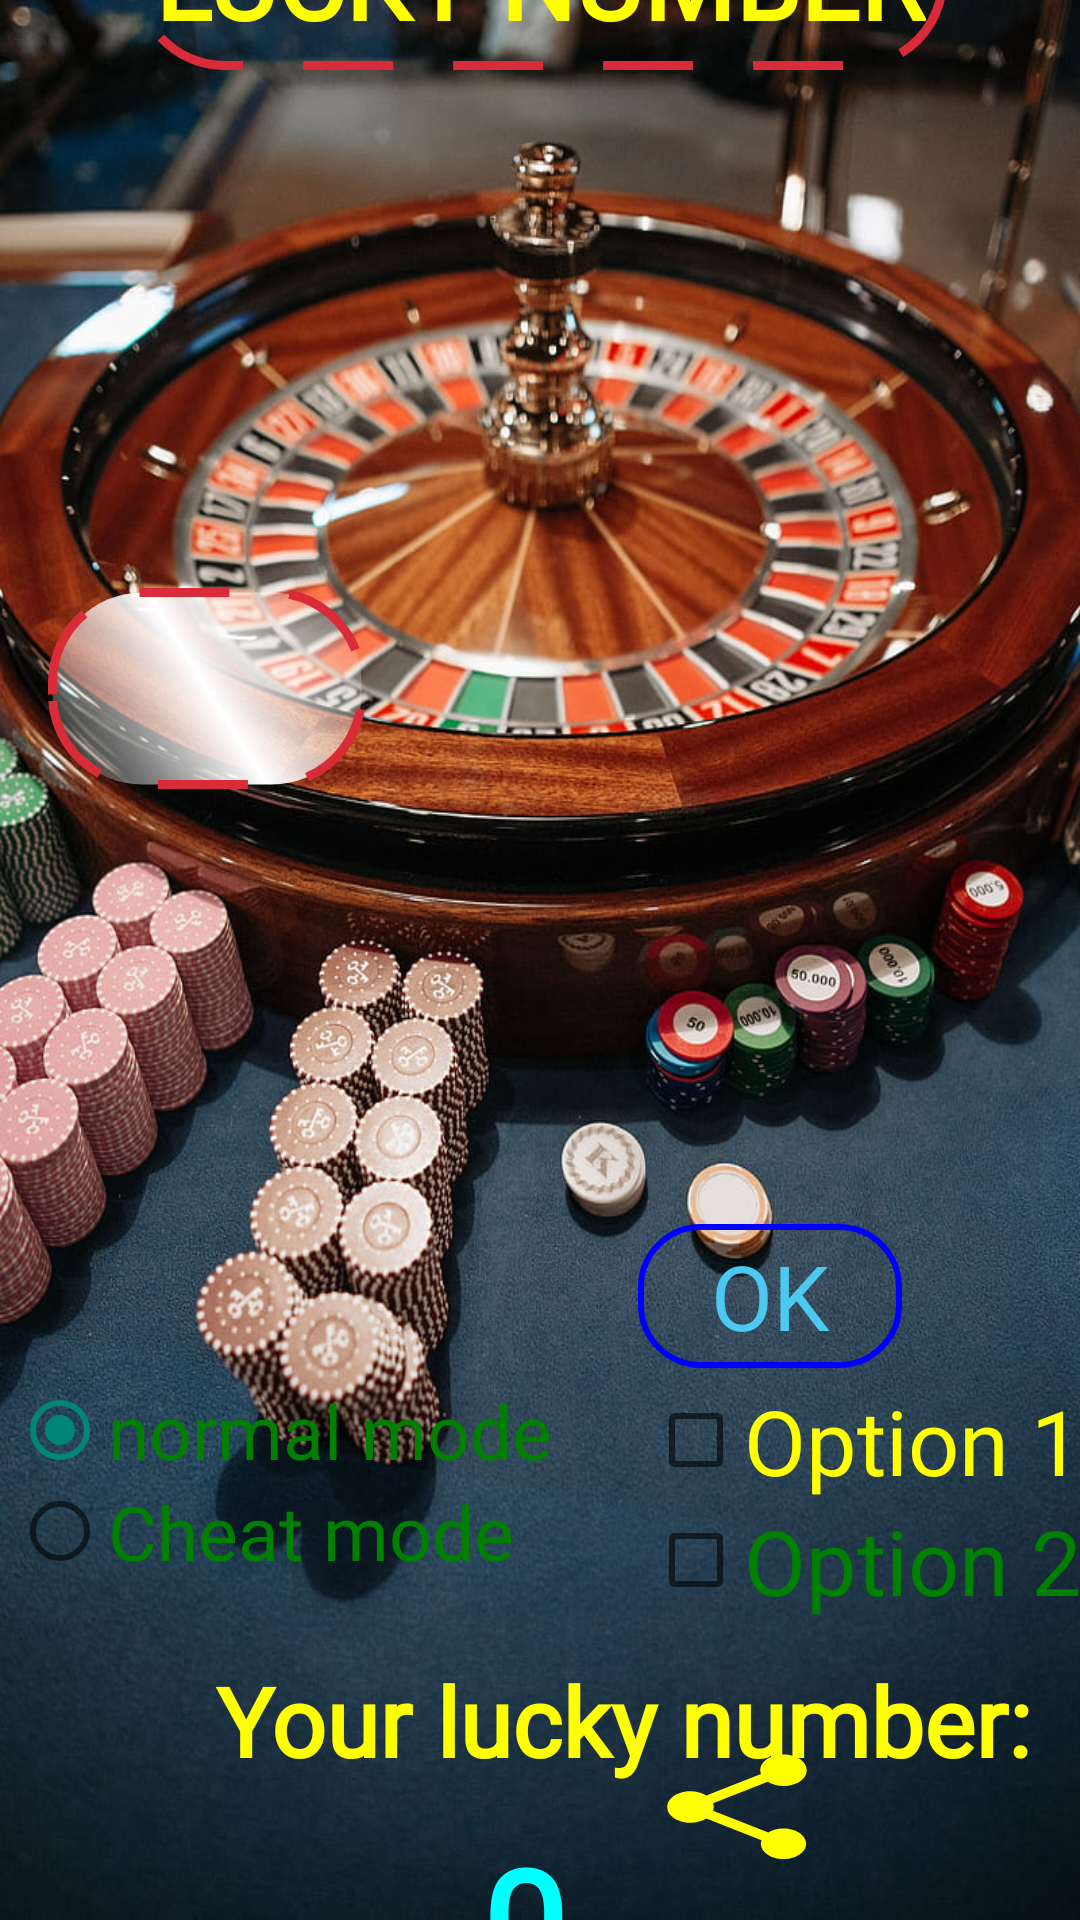

Screen size 1080 x 1920. Icon name, then its box in pixels as [x1=x1, y1=y1, x2=x2, y2=y2]:
share: [x1=644, y1=1744, x2=830, y2=1859]
